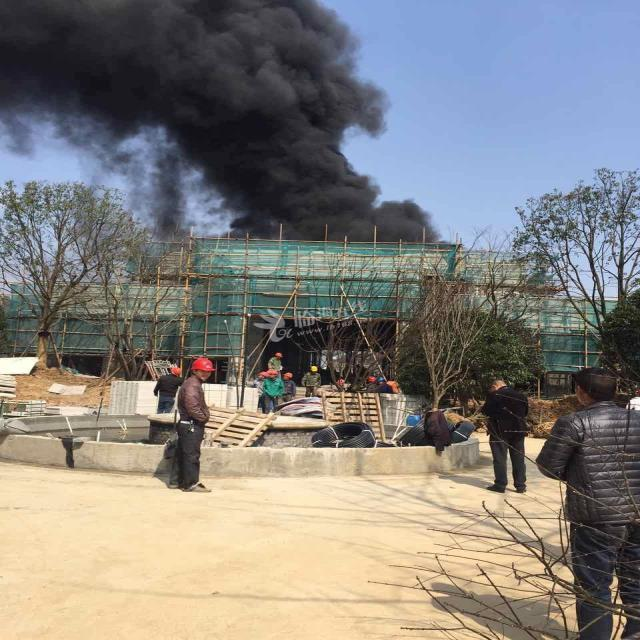Smoke: (2, 0, 441, 242)
